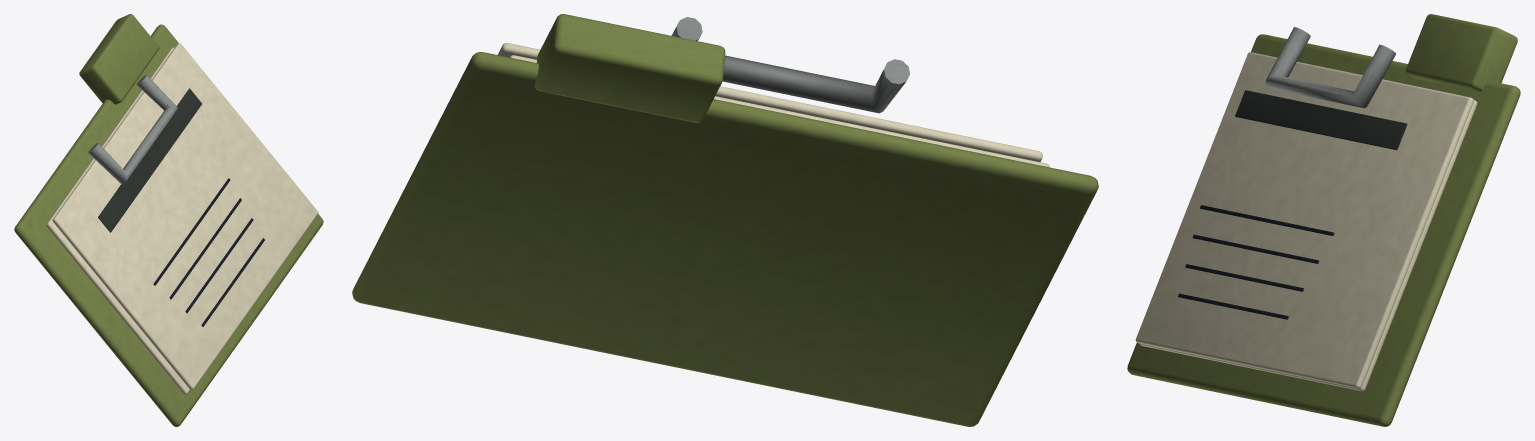
The picture shows the model from 3 angles, left to right: view 1: azimuth 30°, elevation 25°; view 2: azimuth 150°, elevation 25°; view 3: azimuth 270°, elevation 25°; orthographic projection. The views are drawn at different scales.
Parts seen in each view (by area): view 1: Folded document backing; view 2: Folded document backing; view 3: Folded document backing.
Boxes of the visible parts, box(x1,y1,x2,y2) form: Folded document backing: box(14, 14, 323, 426); Folded document backing: box(352, 14, 1098, 426); Folded document backing: box(1127, 14, 1520, 426).
Bounding box in the file's own units: 1.35 × 1.08 × 0.9515.
Materials: 1 (1 with a texture image).
